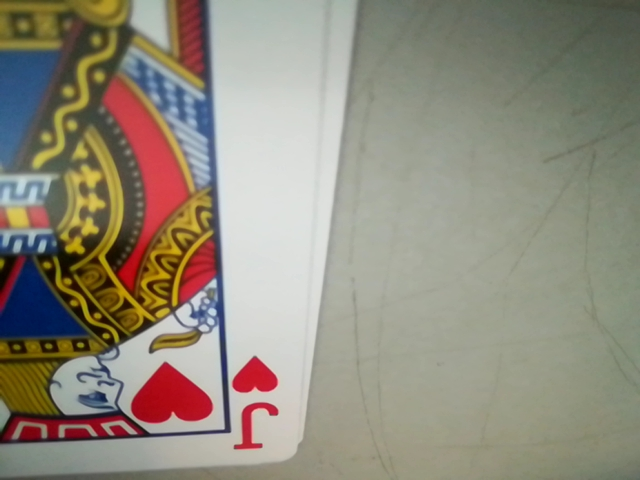hx j: (228, 351, 286, 455)
